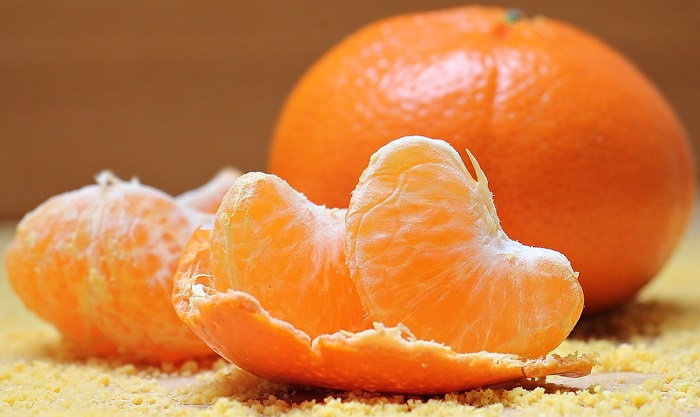Orange: (29, 120, 371, 318), (319, 144, 591, 358)
